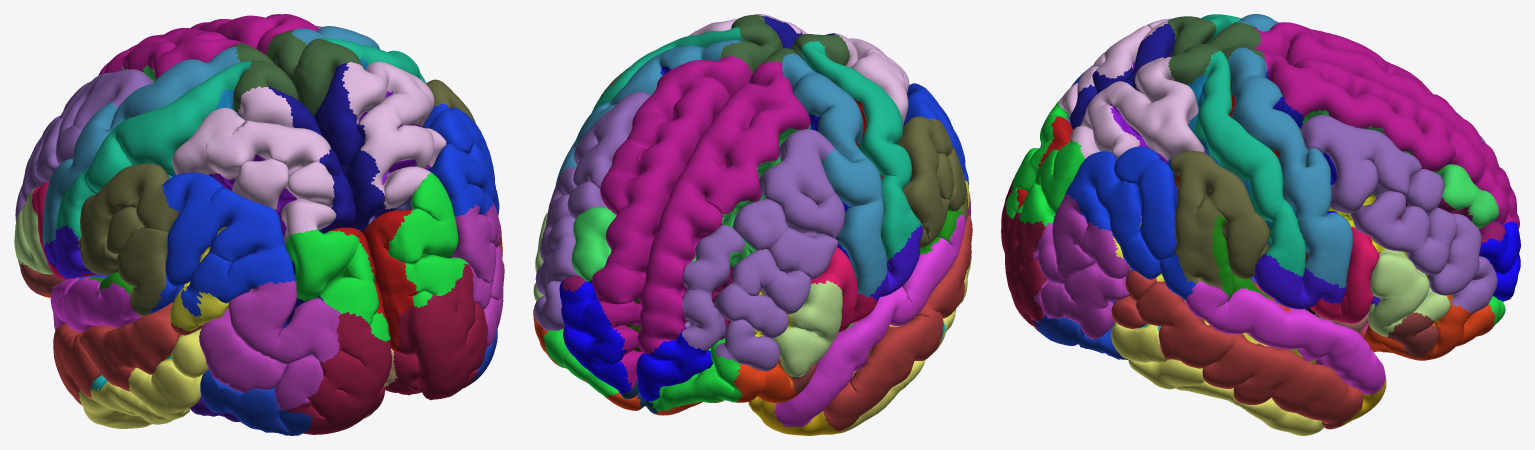
Rendered from cortex-destrieux.glb.
The picture shows the model from 3 angles, left to right: view 1: azimuth 30°, elevation 25°; view 2: azimuth 150°, elevation 25°; view 3: azimuth 270°, elevation 25°; orthographic projection. The views are drawn at different scales.
Parts seen in each view (by area): view 1: destrieux:left:27, destrieux:left:25, destrieux:left:19, destrieux:left:26, destrieux:right:27, destrieux:right:43, destrieux:left:28, destrieux:left:38, destrieux:left:43, destrieux:left:37, destrieux:left:20, destrieux:left:29 (+23 smaller); view 2: destrieux:left:15, destrieux:right:16, destrieux:left:16, destrieux:left:29, destrieux:right:15, destrieux:left:34, destrieux:left:38, destrieux:left:28, destrieux:left:26, destrieux:right:5, destrieux:left:14, destrieux:right:29 (+19 smaller); view 3: destrieux:right:15, destrieux:right:38, destrieux:right:16, destrieux:right:29, destrieux:right:25, destrieux:right:26, destrieux:right:34, destrieux:right:19, destrieux:right:28, destrieux:right:27, destrieux:left:16, destrieux:right:37 (+19 smaller).
Boxes of the visible parts, bbox=[...] form: destrieux:left:27: bbox=[172, 86, 336, 243]; destrieux:left:25: bbox=[150, 172, 295, 316]; destrieux:left:19: bbox=[199, 280, 340, 410]; destrieux:left:26: bbox=[78, 163, 178, 316]; destrieux:right:27: bbox=[341, 61, 446, 209]; destrieux:right:43: bbox=[384, 263, 487, 400]; destrieux:left:28: bbox=[55, 60, 251, 240]; destrieux:left:38: bbox=[53, 302, 202, 404]; destrieux:left:43: bbox=[286, 312, 391, 434]; destrieux:left:37: bbox=[79, 328, 208, 428]; destrieux:left:20: bbox=[284, 229, 390, 341]; destrieux:left:29: bbox=[42, 46, 241, 247]; destrieux:left:15: bbox=[682, 129, 844, 371]; destrieux:right:16: bbox=[592, 56, 752, 388]; destrieux:left:16: bbox=[637, 61, 810, 354]; destrieux:left:29: bbox=[782, 53, 887, 296]; destrieux:right:15: bbox=[534, 92, 650, 330]; destrieux:left:34: bbox=[774, 214, 965, 426]; destrieux:left:38: bbox=[823, 208, 972, 431]; destrieux:left:28: bbox=[801, 41, 922, 260]; destrieux:left:26: bbox=[897, 116, 967, 248]; destrieux:right:5: bbox=[559, 280, 631, 394]; destrieux:left:14: bbox=[773, 280, 842, 377]; destrieux:right:29: bbox=[555, 40, 740, 185]; destrieux:right:15: bbox=[1300, 115, 1497, 313]; destrieux:right:38: bbox=[1111, 270, 1363, 429]; destrieux:right:16: bbox=[1262, 52, 1515, 225]; destrieux:right:29: bbox=[1227, 47, 1352, 288]; destrieux:right:25: bbox=[1065, 146, 1195, 300]; destrieux:right:26: bbox=[1170, 151, 1269, 288]; destrieux:right:34: bbox=[1184, 281, 1385, 394]; destrieux:right:19: bbox=[1032, 194, 1130, 339]; destrieux:right:28: bbox=[1194, 50, 1305, 277]; destrieux:right:27: bbox=[1069, 57, 1204, 160]; destrieux:left:16: bbox=[1254, 22, 1519, 228]; destrieux:right:37: bbox=[1111, 321, 1323, 435].
Bounding box in the file's own units: 0.1294 × 0.1236 × 0.1629.
